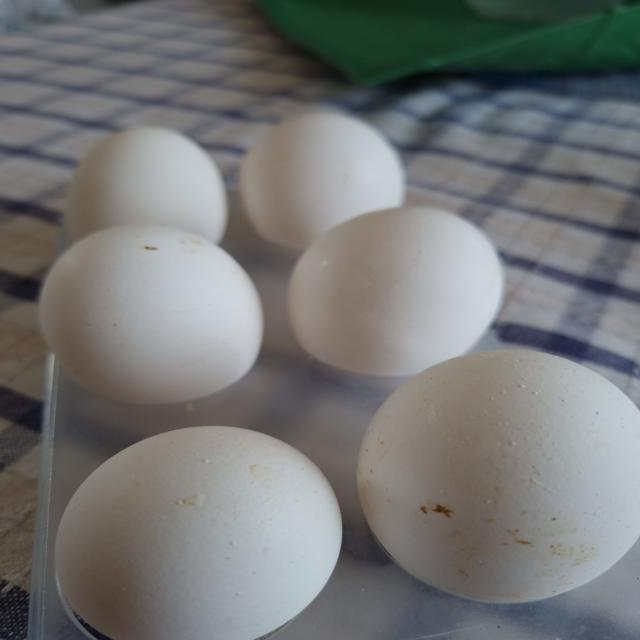Egg: (355, 349, 640, 607), (52, 426, 344, 640), (38, 223, 265, 408), (286, 205, 507, 380), (239, 109, 407, 253), (58, 126, 230, 253)
